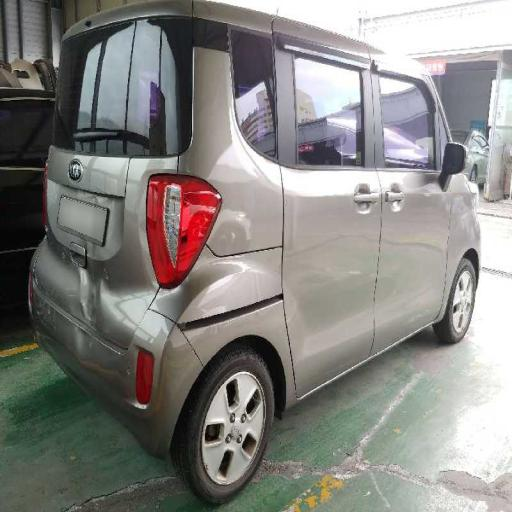broken: (177, 140, 300, 333)
dent: (58, 202, 200, 414)
